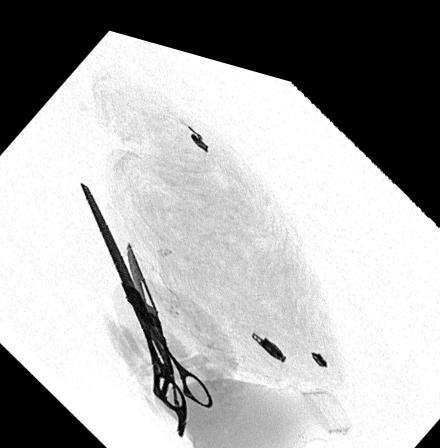Knife: (126, 236, 180, 399)
Scissors: (77, 176, 212, 428)
